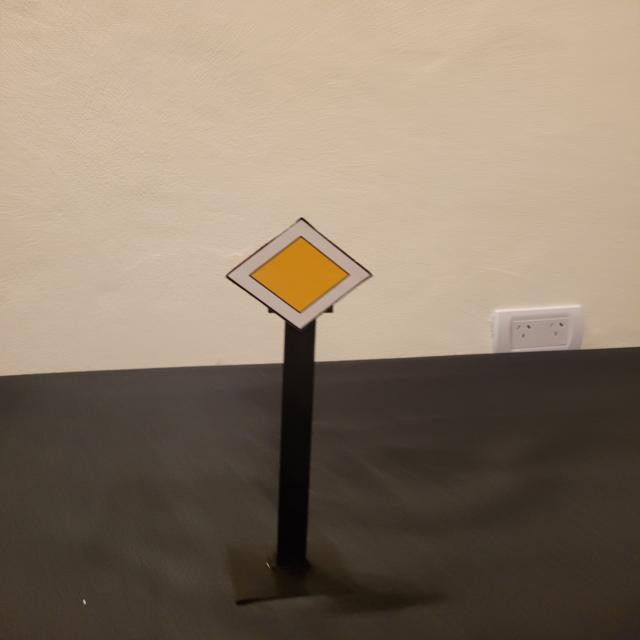priority: (225, 217, 374, 330)
